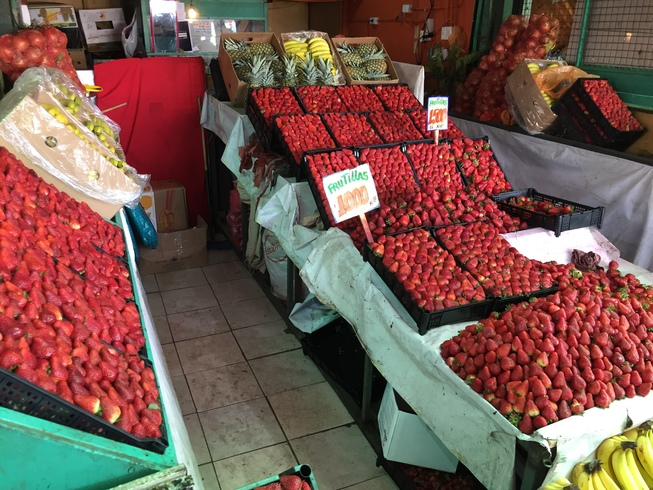precio: (321, 166, 381, 225), (427, 94, 451, 135)
